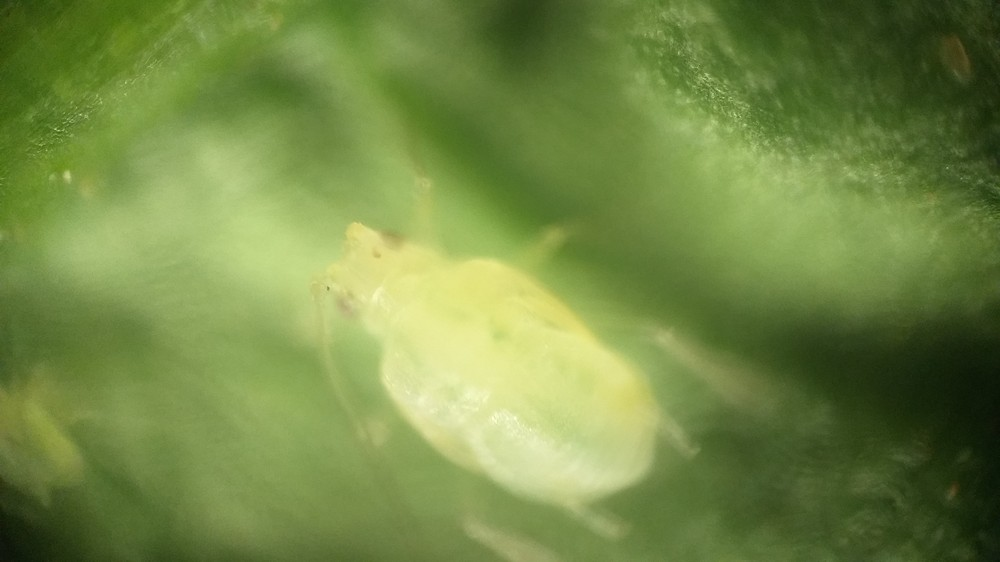Pulgon: (248, 146, 781, 542)
